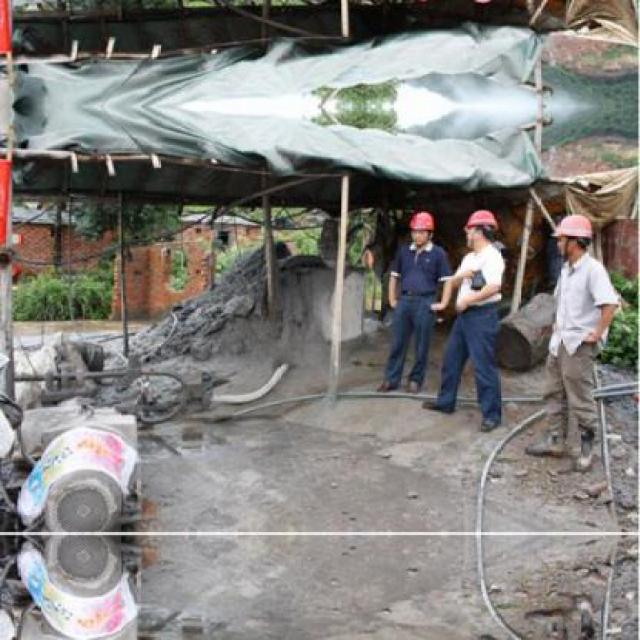helmet: (553, 207, 595, 263), (462, 208, 498, 248), (408, 207, 438, 245)
